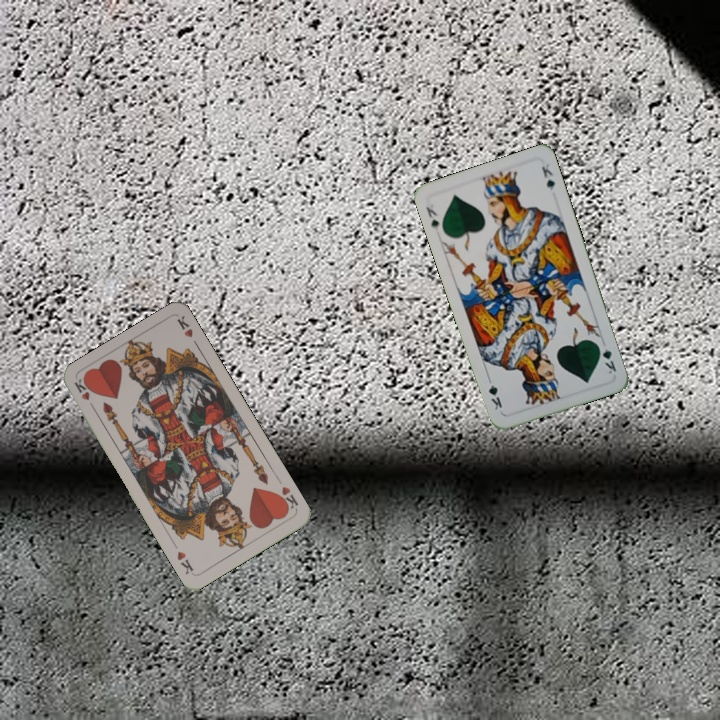GK: (593, 340, 619, 377), (422, 200, 442, 237)
HK: (70, 375, 98, 414), (273, 482, 301, 514)
